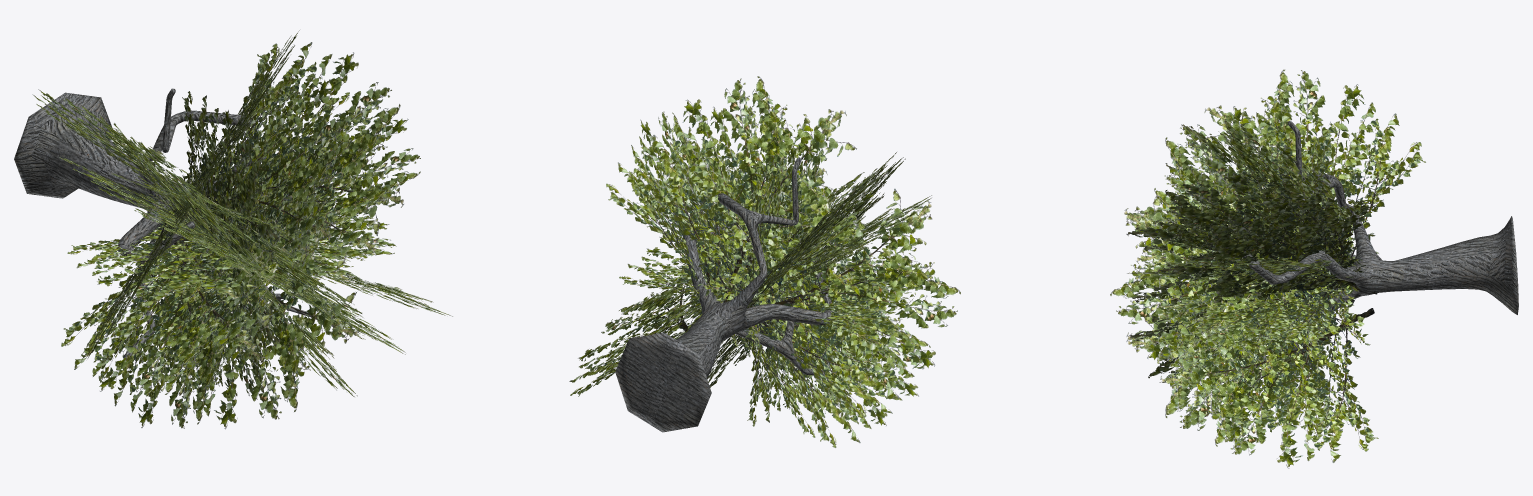
Rendered from Tyler_Tree3New.obj.
3 renders of one model, left to right at view 1: azimuth 30°, elevation 25°; view 2: azimuth 150°, elevation 25°; view 3: azimuth 270°, elevation 25°, orthographic. The views are drawn at different scales.
Parts seen in each view (by area): view 1: Plane.002_Plane.006, Plane.004_Plane.008, Plane.005_Plane.009, Plane.001_Plane.005, Plane_Plane.002, Plane.006_Plane.010, Plane.003_Plane.007; view 2: Plane.006_Plane.010, Plane_Plane.002, Plane.005_Plane.009, Plane.004_Plane.008, Plane.002_Plane.006, Plane.001_Plane.005, Plane.003_Plane.007; view 3: Plane.005_Plane.009, Plane.006_Plane.010, Plane.002_Plane.006, Plane_Plane.002, Plane.004_Plane.008, Plane.001_Plane.005, Plane.003_Plane.007.
Boxes of the visible parts, x1=… form: Plane.002_Plane.006: x1=59, y1=55, x2=405, y2=428; Plane.004_Plane.008: x1=61, y1=92, x2=420, y2=396; Plane.005_Plane.009: x1=111, y1=42, x2=452, y2=429; Plane.001_Plane.005: x1=67, y1=91, x2=396, y2=399; Plane_Plane.002: x1=14, y1=88, x2=341, y2=358; Plane.006_Plane.010: x1=32, y1=30, x2=374, y2=362; Plane.003_Plane.007: x1=143, y1=141, x2=353, y2=369; Plane.006_Plane.010: x1=632, y1=76, x2=960, y2=417; Plane_Plane.002: x1=615, y1=157, x2=870, y2=432; Plane.005_Plane.009: x1=569, y1=111, x2=877, y2=437; Plane.004_Plane.008: x1=606, y1=138, x2=930, y2=420; Plane.002_Plane.006: x1=672, y1=106, x2=931, y2=447; Plane.001_Plane.005: x1=619, y1=144, x2=915, y2=426; Plane.003_Plane.007: x1=731, y1=163, x2=886, y2=367; Plane.005_Plane.009: x1=1129, y1=153, x2=1378, y2=468; Plane.006_Plane.010: x1=1110, y1=69, x2=1425, y2=392; Plane.002_Plane.006: x1=1126, y1=128, x2=1361, y2=440; Plane_Plane.002: x1=1242, y1=121, x2=1518, y2=411; Plane.004_Plane.008: x1=1126, y1=106, x2=1353, y2=449; Plane.001_Plane.005: x1=1159, y1=143, x2=1342, y2=396; Plane.003_Plane.007: x1=1149, y1=185, x2=1276, y2=374.
Bounding box in the file's own units: 1671 × 1486 × 1763.
